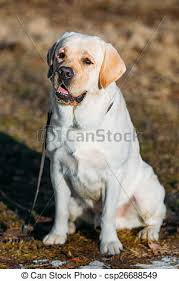dog: (35, 28, 163, 237)
